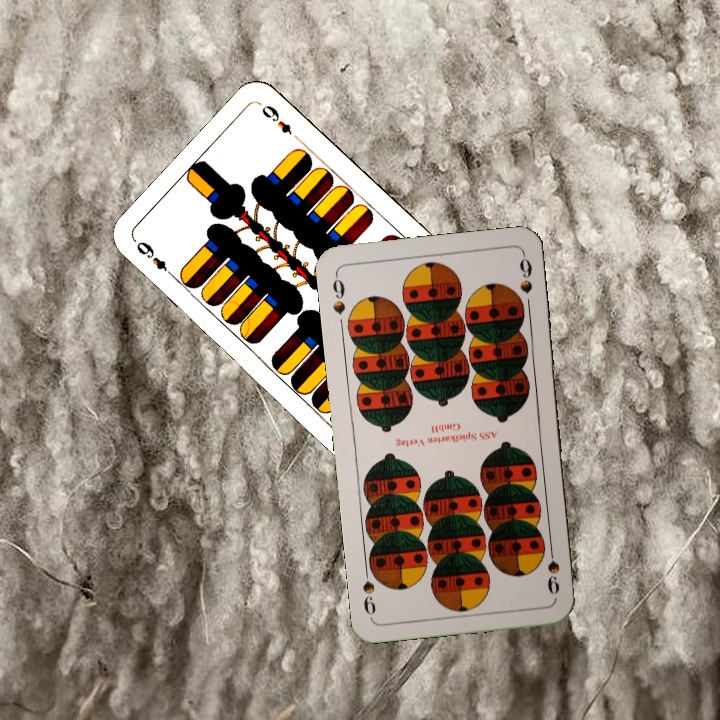E9: (132, 237, 179, 282)
S9: (543, 539, 563, 597), (328, 270, 348, 317)
